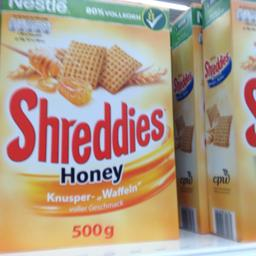cereal: (0, 1, 177, 249)
